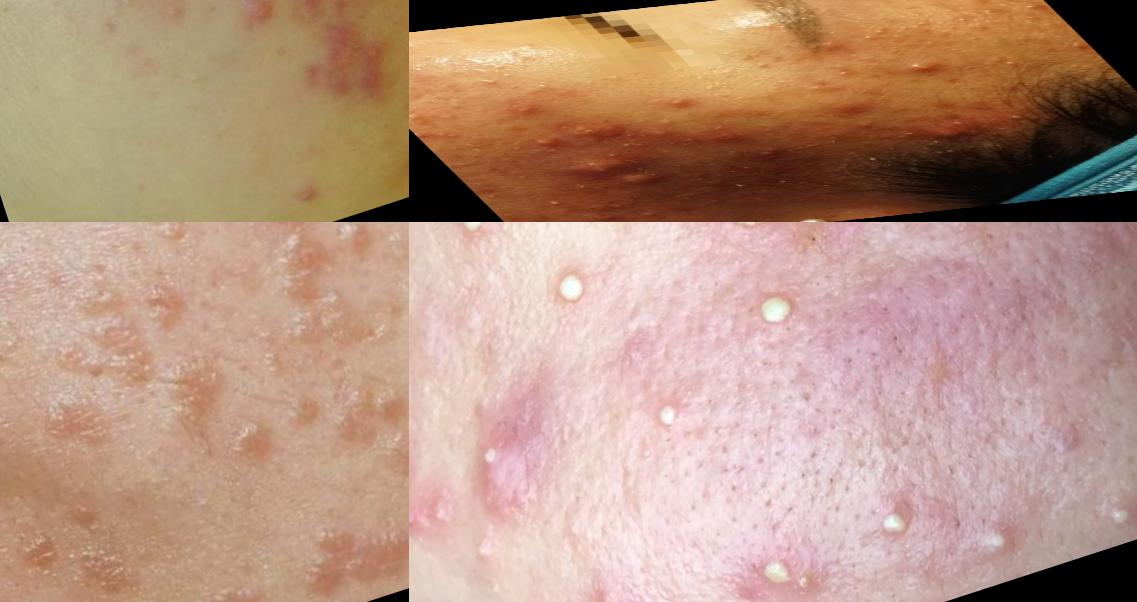cystic: (604, 169, 672, 191)
flat_wart: (1, 478, 152, 602), (136, 324, 256, 470), (238, 223, 355, 360), (314, 355, 410, 498), (27, 370, 131, 478), (296, 519, 410, 602), (85, 292, 161, 400), (124, 255, 202, 347), (178, 565, 295, 602), (275, 372, 332, 441), (329, 223, 403, 267), (140, 223, 198, 255), (230, 423, 271, 465)
folliculitis: (854, 479, 944, 562)
papular: (218, 1, 281, 46), (825, 97, 901, 122), (497, 102, 549, 119), (810, 40, 851, 58), (636, 126, 681, 140)
purulent: (737, 266, 822, 356), (739, 537, 828, 602), (538, 249, 604, 331), (638, 380, 708, 455), (692, 223, 810, 265), (1080, 487, 1137, 549), (972, 511, 1031, 568), (440, 223, 505, 260), (890, 58, 962, 77), (519, 133, 569, 153), (654, 97, 698, 109), (1008, 114, 1026, 121)
sebo-crystan-conglo: (450, 405, 565, 537), (540, 150, 647, 183), (550, 119, 622, 144), (907, 121, 983, 144), (740, 139, 810, 163), (588, 582, 672, 602)
whitehead: (298, 180, 338, 220), (428, 128, 476, 143), (469, 75, 517, 88), (425, 111, 464, 125), (606, 139, 648, 152), (534, 198, 575, 210), (744, 60, 781, 73), (628, 208, 667, 220), (994, 58, 1032, 70), (825, 69, 866, 80), (852, 33, 887, 44), (410, 110, 436, 124), (865, 27, 898, 37), (803, 83, 829, 92)
